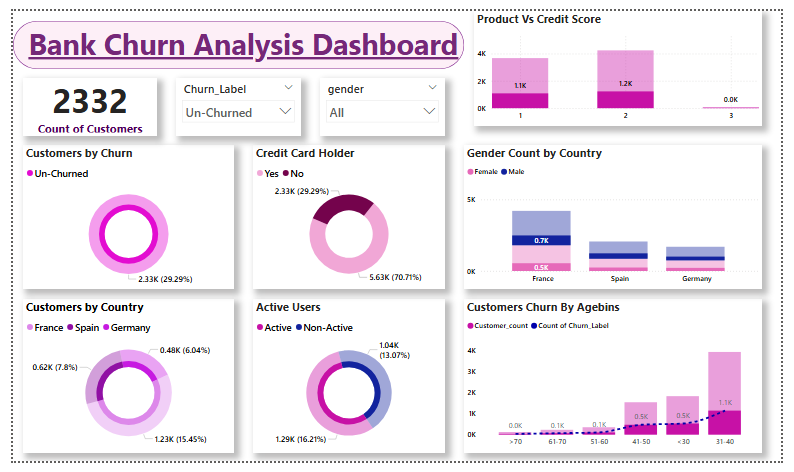

Layout of this report page (visuals, bound fields, positions):
{"tool":"powerbi","page":{"name":"Page 1","canvas":[1280,750],"ordinal":0},"visuals":[{"type":"textbox","box":[10,0,280,280],"z":0},{"type":"textbox","box":[48,48,272,272],"z":1000},{"type":"textbox","box":[0,16,768,80],"z":2000},{"type":"slicer","fields":{"Values":["Bank Data.Churn_Label"]},"box":[272,112,208,96],"z":3000},{"type":"donutChart","title":"Customers by Country ","fields":{"Y":["Bank Data.Customer_count"],"Category":["Bank Data.country"]},"box":[16,480,352,256],"z":4000},{"type":"donutChart","title":"Customers by Churn","fields":{"Category":["Bank Data.Churn_Label"],"Y":["Bank Data.Customer_count"]},"box":[16,224,352,240],"z":5000},{"type":"donutChart","title":"Credit Card Holder","fields":{"Y":["CountNonNull(Bank Data.credit_card_holder)"],"Category":["Bank Data.credit_card_holder"]},"box":[400,224,320,240],"z":6000},{"type":"donutChart","title":"Active Users","fields":{"Y":["CountNonNull(Bank Data.current_user)"],"Category":["Bank Data.current_user"]},"box":[400,480,320,256],"z":7000},{"type":"card","fields":{"Values":["Bank Data.Customer_count"]},"box":[16,112,224,96],"z":8000},{"type":"lineStackedColumnComboChart","title":"Customers Churn By Agebins","fields":{"Category":["Bank Data.age_bins"],"Y":["Bank Data.Customer_count"],"Y2":["CountNonNull(Bank Data.Churn_Label)"]},"box":[752,480,496,256],"z":9000},{"type":"columnChart","title":"Gender Count by Country","fields":{"Series":["Bank Data.gender"],"Category":["Bank Data.country"],"Y":["Bank Data.Count of Churn_Label total for Churn_Label"]},"box":[752,224,496,240],"z":10000},{"type":"columnChart","title":"Product Vs Credit Score","fields":{"Category":["Bank Data.products_number"],"Y":["CountNonNull(Bank Data.credit_score)"]},"box":[768,0,480,192],"z":11000},{"type":"slicer","fields":{"Values":["Bank Data.gender"]},"box":[512,112,208,96],"z":12000},{"type":"shape","box":[0,16,752,80],"z":13000}]}

Visuals, with their boxes in screenshot pixels (x1, y1, x2, y2), scaled from the page's 1280x750 canvas onto the 794x472 screenshot:
textbox: select_region(6, 0, 180, 176)
textbox: select_region(30, 30, 198, 201)
textbox: select_region(0, 10, 476, 60)
slicer - Bank Data.Churn_Label: select_region(169, 70, 298, 131)
"Customers by Country " donutChart: select_region(10, 302, 228, 463)
"Customers by Churn" donutChart: select_region(10, 141, 228, 292)
"Credit Card Holder" donutChart: select_region(248, 141, 447, 292)
"Active Users" donutChart: select_region(248, 302, 447, 463)
card - Bank Data.Customer_count: select_region(10, 70, 149, 131)
"Customers Churn By Agebins" lineStackedColumnComboChart: select_region(466, 302, 774, 463)
"Gender Count by Country" columnChart: select_region(466, 141, 774, 292)
"Product Vs Credit Score" columnChart: select_region(476, 0, 774, 121)
slicer - Bank Data.gender: select_region(318, 70, 447, 131)
shape: select_region(0, 10, 466, 60)
